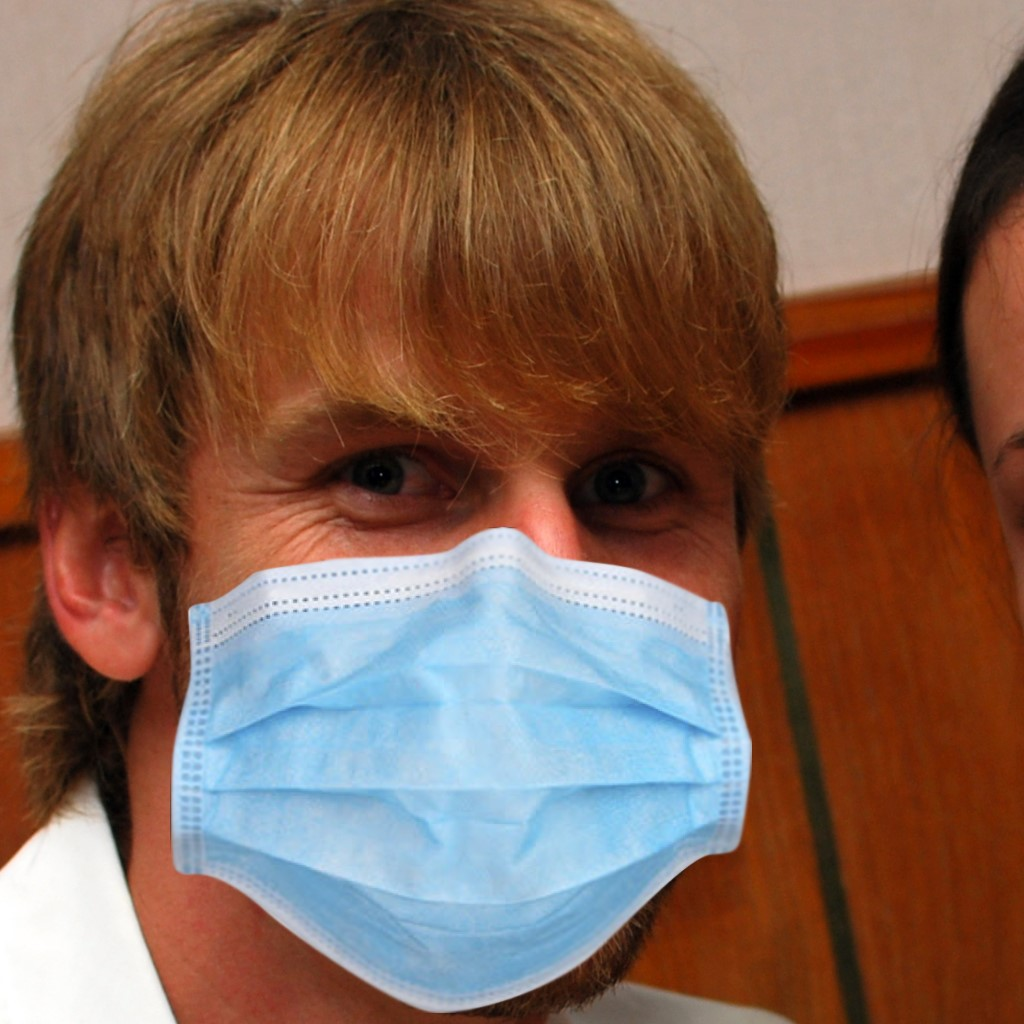con_mascara: (121, 177, 750, 966)
